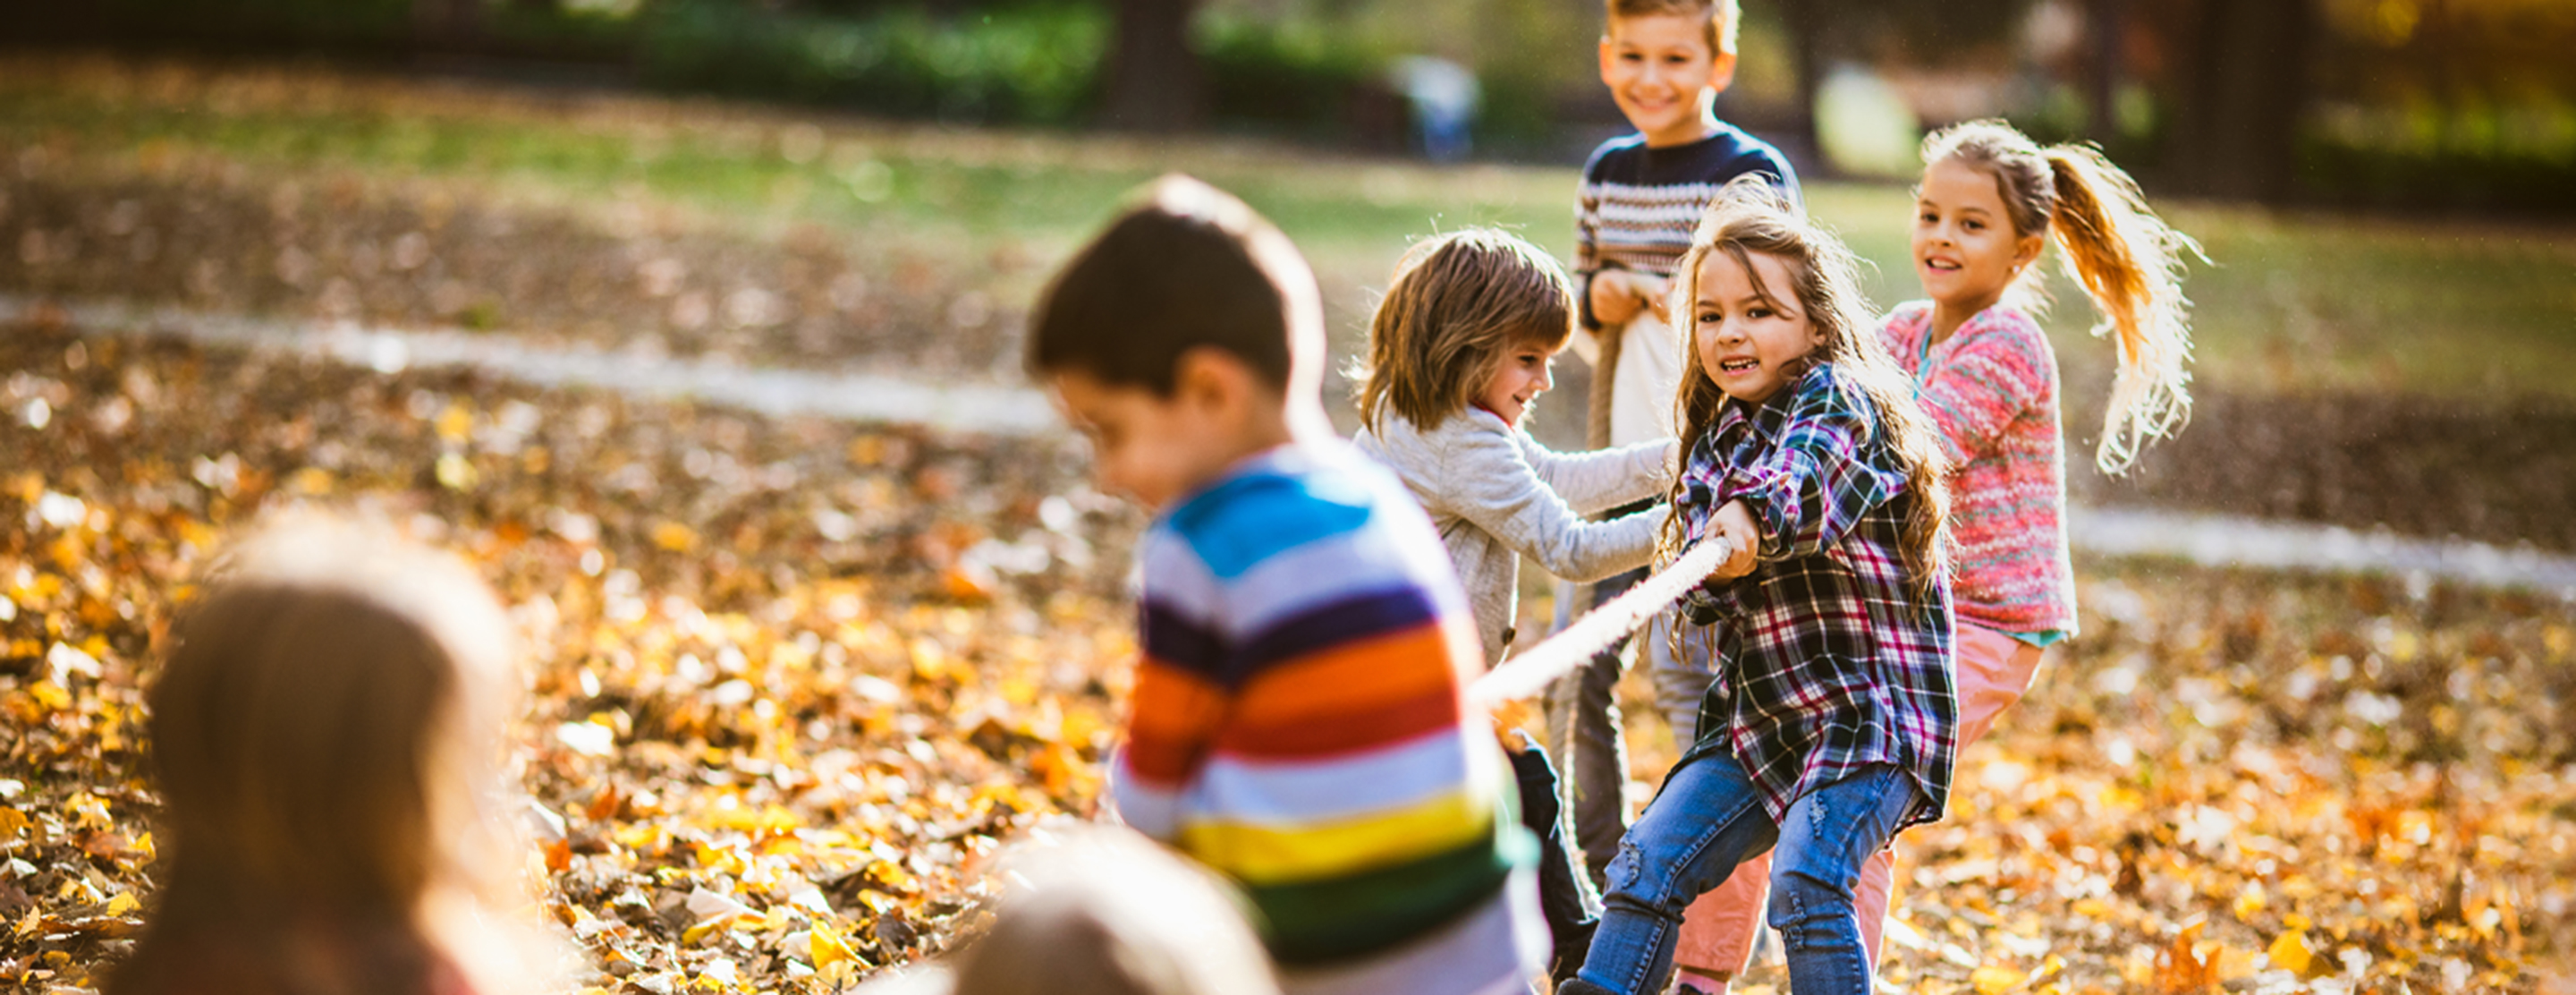human: (1004, 153, 1532, 995), (1572, 191, 1967, 995), (1799, 117, 2207, 761), (1508, 1, 1826, 488), (1360, 185, 1652, 673)
